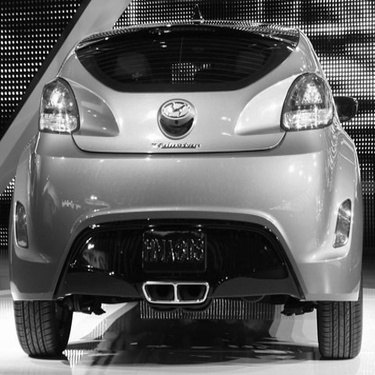car: (1, 12, 366, 364)
